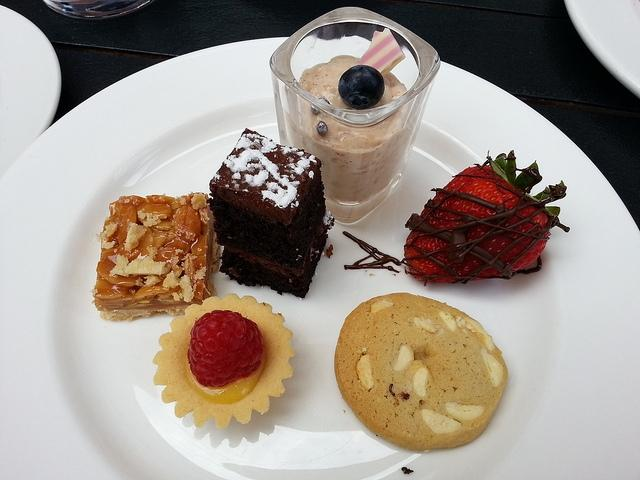almond: (456, 315, 494, 351), (421, 409, 462, 434), (481, 348, 504, 387), (445, 402, 484, 420), (356, 354, 374, 390), (393, 345, 414, 371), (413, 367, 428, 396), (438, 310, 456, 332), (413, 316, 437, 332), (371, 298, 394, 313)
blueberry: (338, 65, 385, 109)
raspberry: (187, 309, 266, 387)
strawberry: (404, 166, 550, 283)
